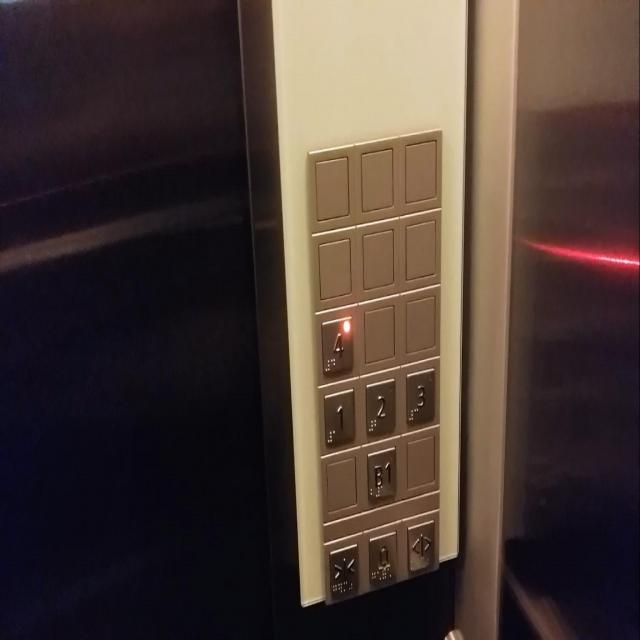1: (322, 384, 358, 449)
2: (363, 376, 396, 441)
3: (404, 368, 436, 431)
4: (319, 310, 353, 382)
B1: (365, 442, 396, 506)
alarm: (368, 528, 399, 592)
close: (328, 544, 361, 604)
open: (405, 519, 436, 579)
